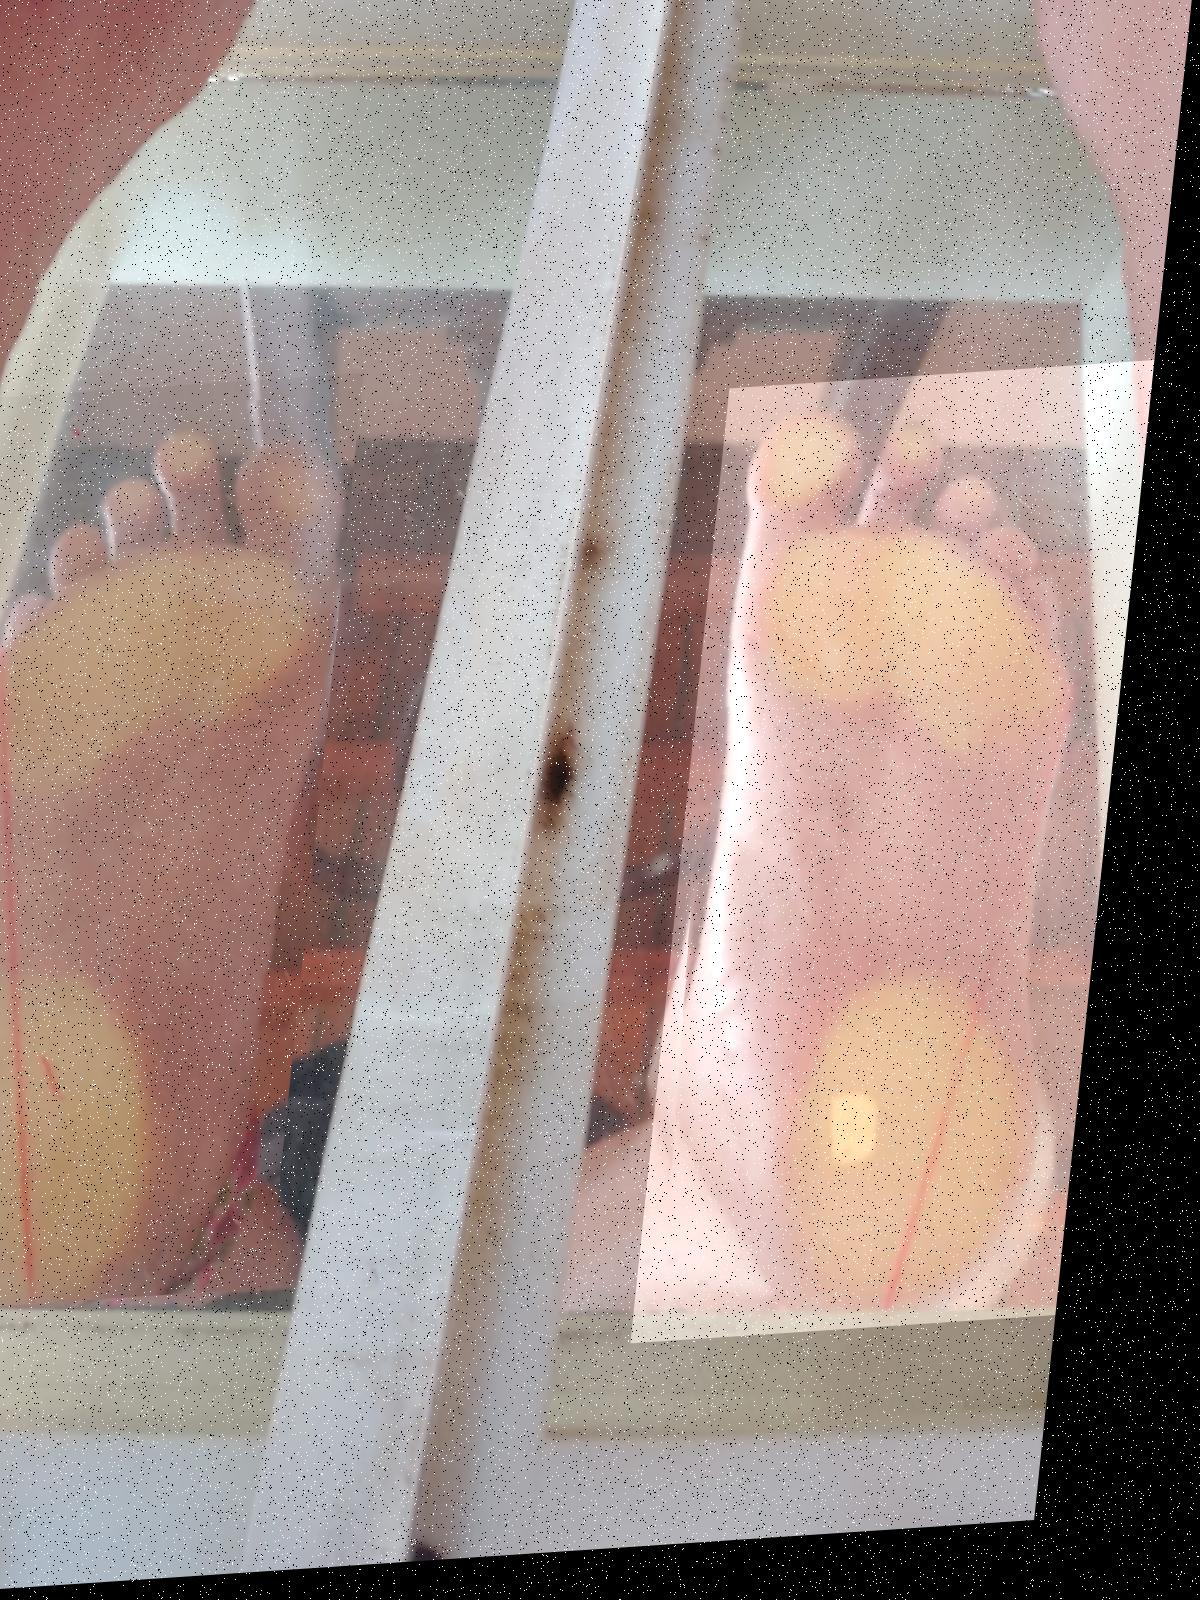1: (661, 377, 1165, 1354)
Present: (0, 379, 372, 1315)
